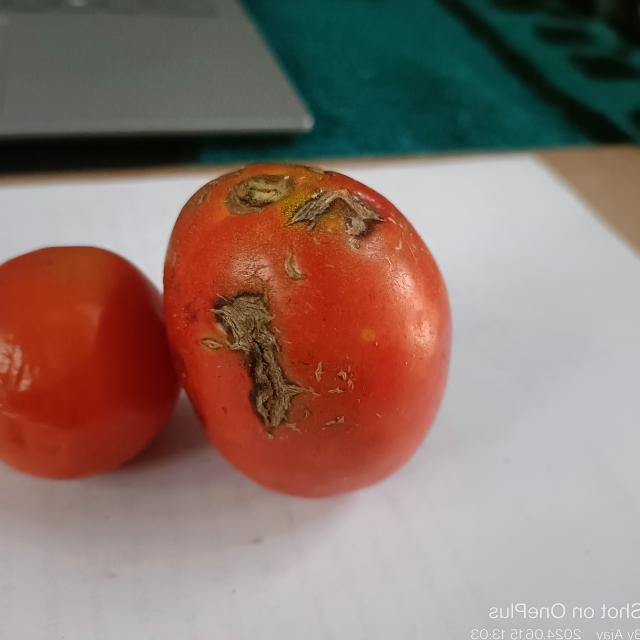Bacterial_Spot: (208, 284, 298, 434), (294, 193, 386, 238), (223, 175, 289, 219), (278, 250, 308, 279), (327, 371, 354, 398)
